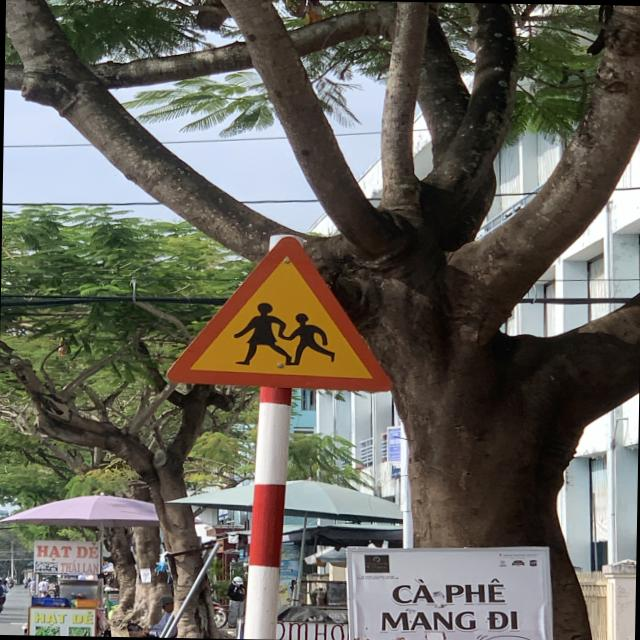Vong_Xuyen: (163, 236, 394, 392)
